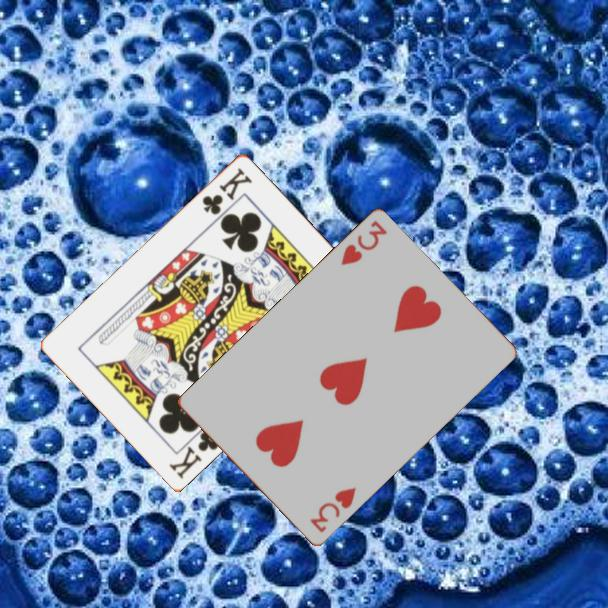c13: (165, 427, 221, 482), (198, 164, 255, 217)
h03: (306, 484, 359, 536), (337, 217, 390, 269)
